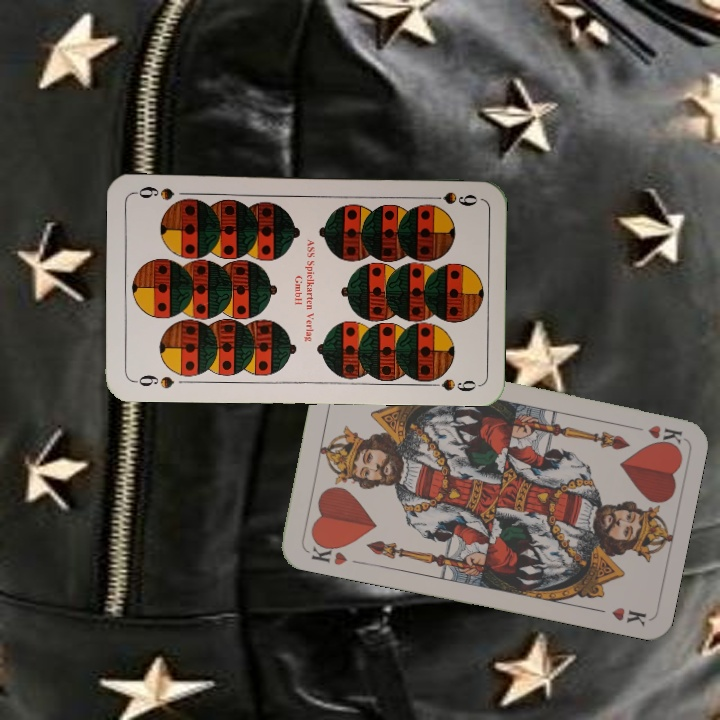HK: (625, 421, 684, 448), (307, 536, 350, 568)
S9: (422, 187, 481, 209), (129, 370, 176, 391)
